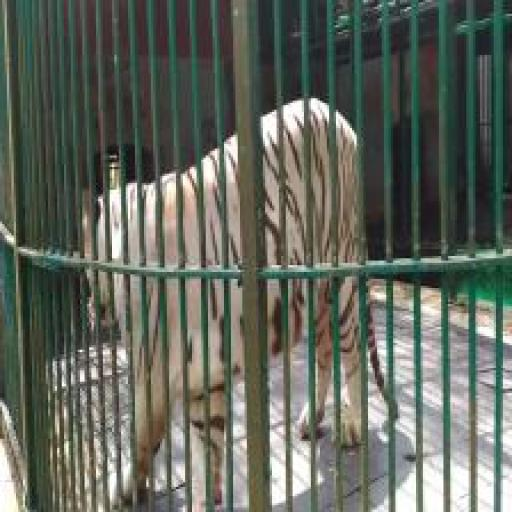Tiger: (78, 89, 399, 512)
